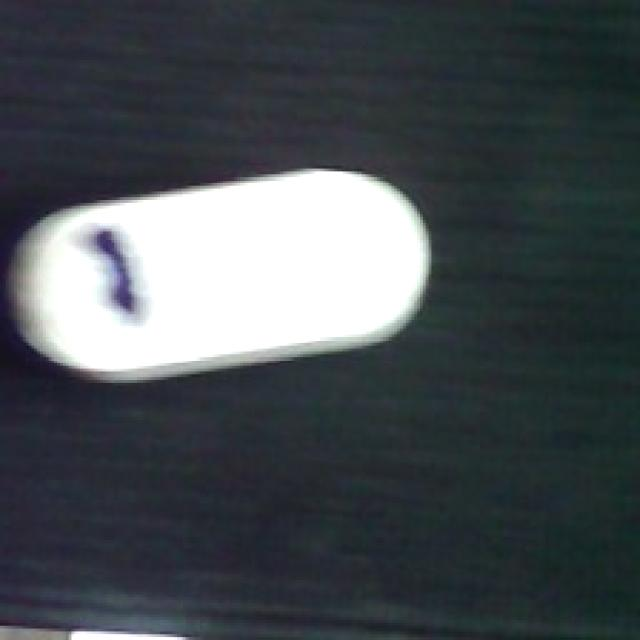defected: (0, 171, 437, 386)
